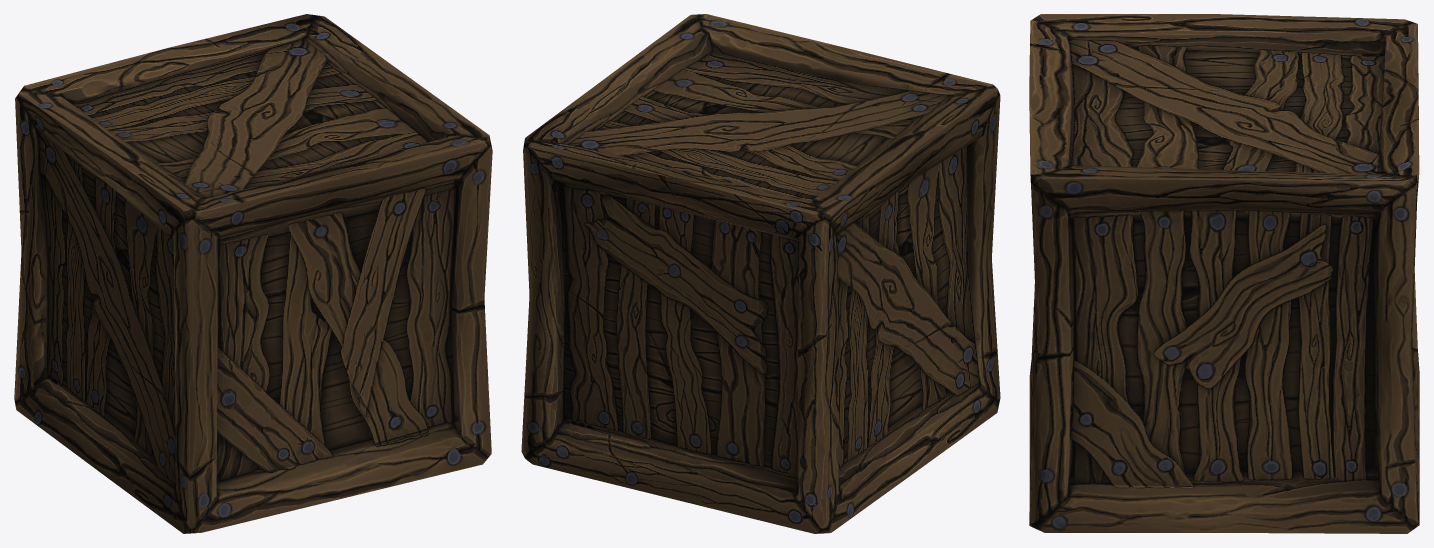
3 renders of one model, left to right at view 1: azimuth 30°, elevation 25°; view 2: azimuth 150°, elevation 25°; view 3: azimuth 270°, elevation 25°, orthographic. The views are drawn at different scales.
Visible parts, largest first — view 1: node_id41; view 2: node_id41; view 3: node_id41.
Boxes of the visible parts, x1,y1,x2,y2 form: node_id41: [14, 14, 492, 533]; node_id41: [521, 14, 1000, 533]; node_id41: [1029, 14, 1419, 533].
Size of the model in its own units: 0.5089 by 0.512 by 0.5087.
Materials: 1 (1 with a texture image).
